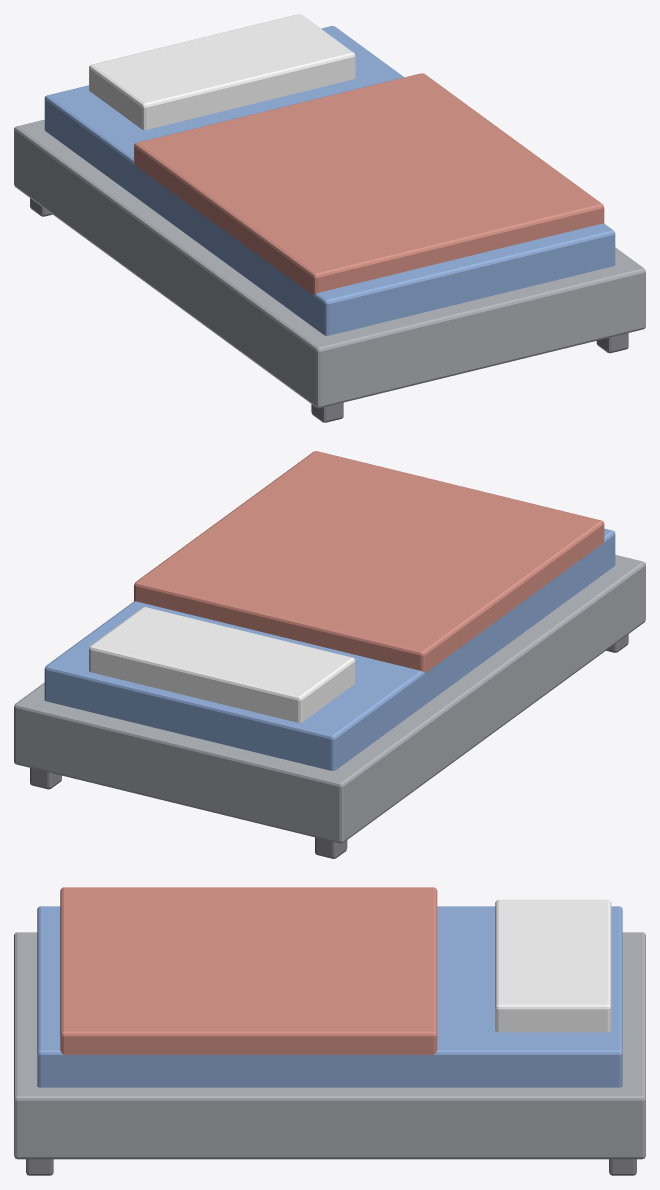
The model's file is койки.glb.
3 views of the same model, one above another, from view 1: azimuth 30°, elevation 25°; view 2: azimuth 150°, elevation 25°; view 3: azimuth 270°, elevation 25° (orthographic). The views are drawn at different scales.
Parts seen in each view (by area): view 1: койки; view 2: койки; view 3: койки.
Boxes of the visible parts, <box> form: койки: <box>14,14,645,422</box>; койки: <box>14,451,645,858</box>; койки: <box>14,887,645,1175</box>.
Bounding box in the file's own units: 1.7 × 0.7005 × 2.73.
